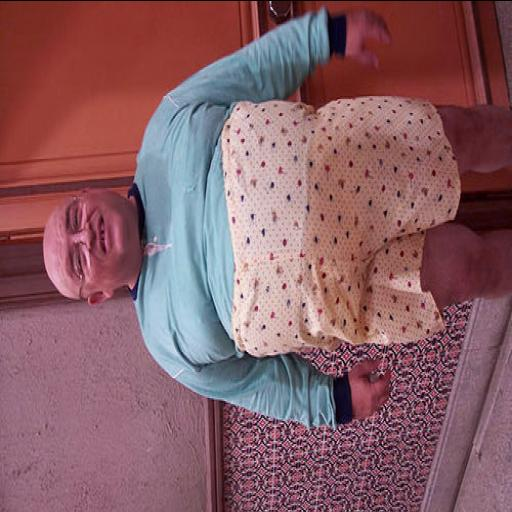sboui: (43, 189, 141, 304)
